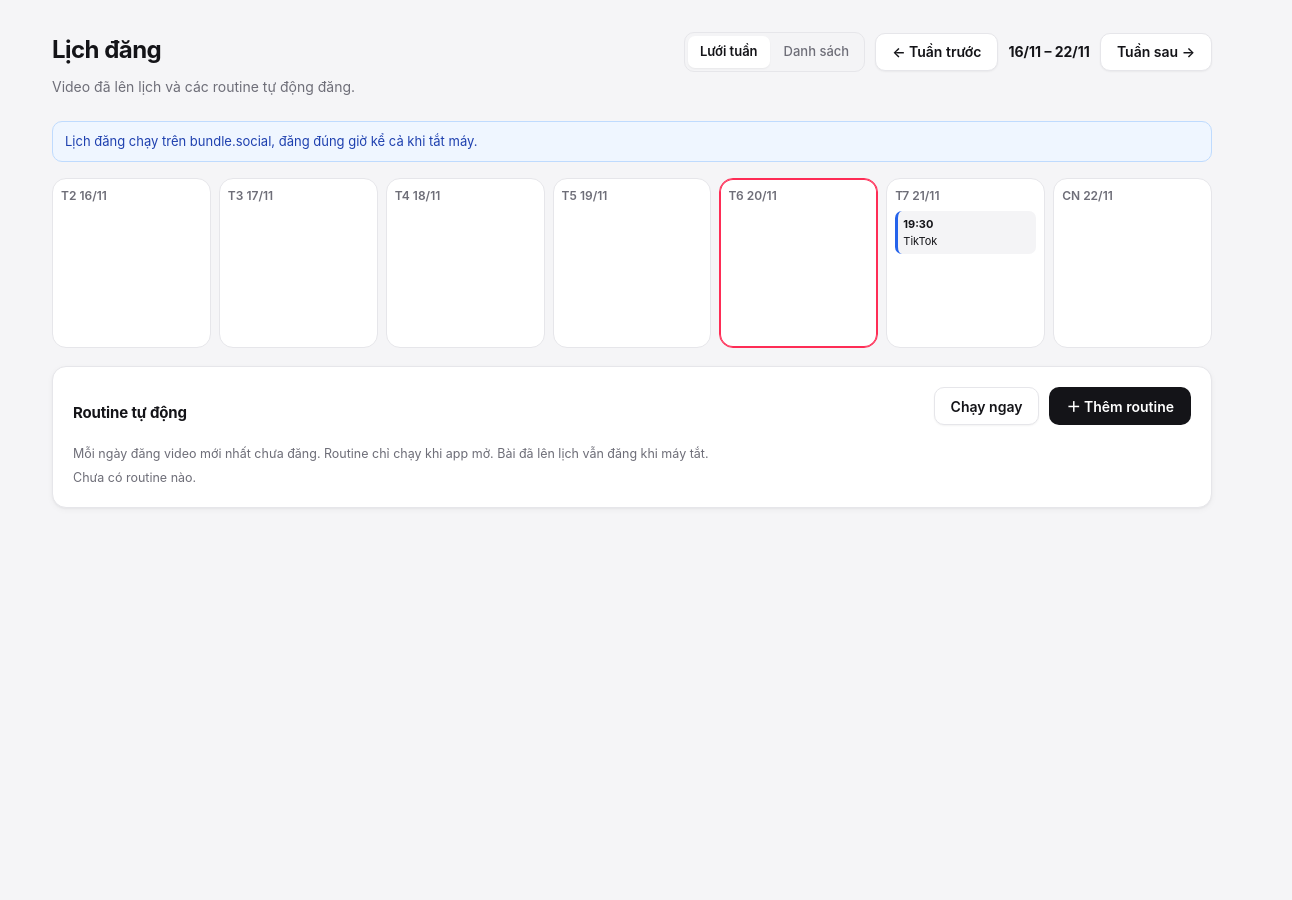
Test: adding a routine saves settings; Chạy ngay runs routine-sync and reports the count
Check: the element with test id "day-T7" is shown, box [886,178,1045,348]
Click the button "＋ Thêm routine" at (1120, 406), box [1049,387,1191,425]
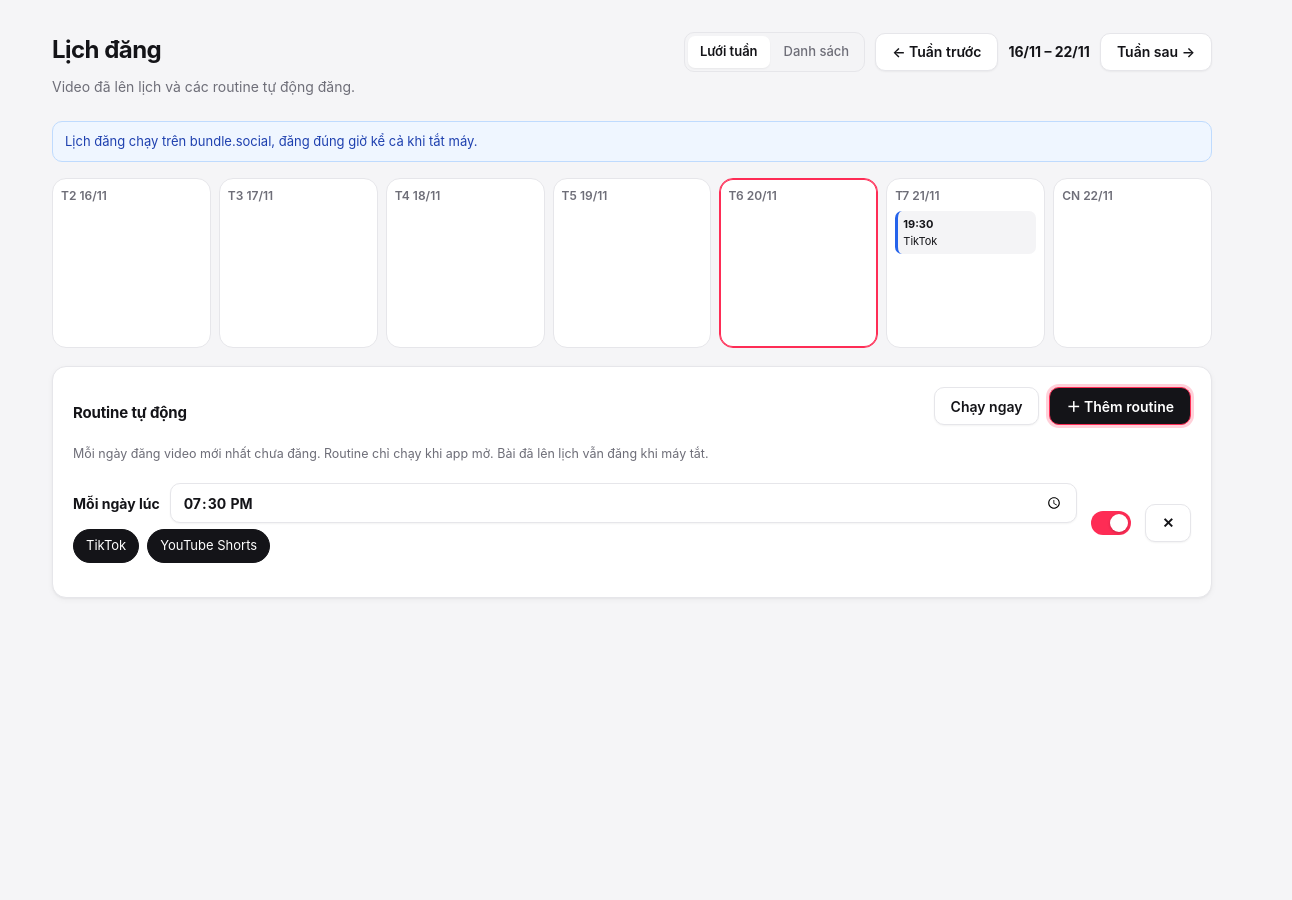
Replace the text in the time field named "Giờ routine 1" with "08:15" at (624, 503), box [170,483,1077,523]
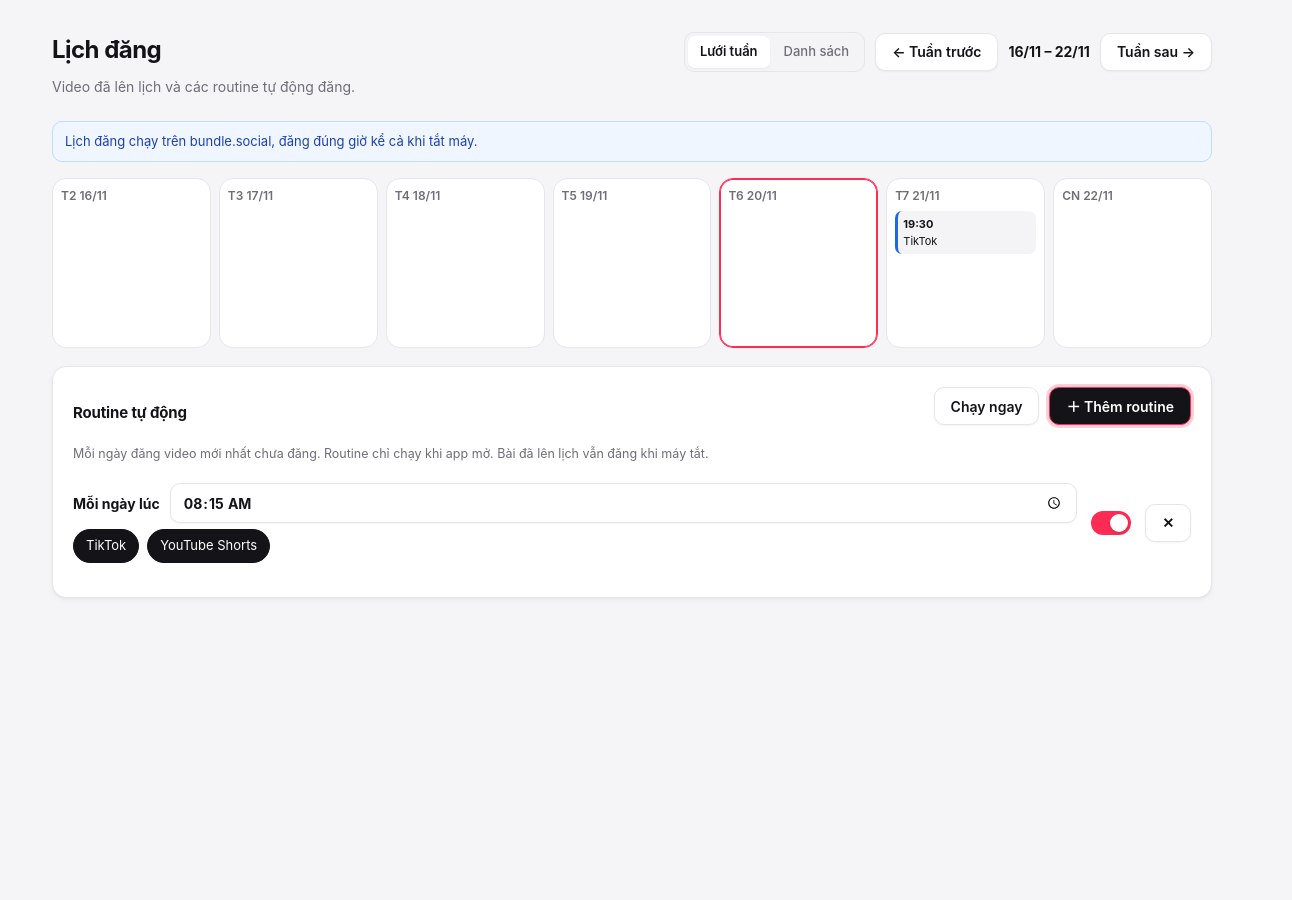
Click the button "Chạy ngay" at (986, 406), box [934,387,1039,425]
(page scrolled)
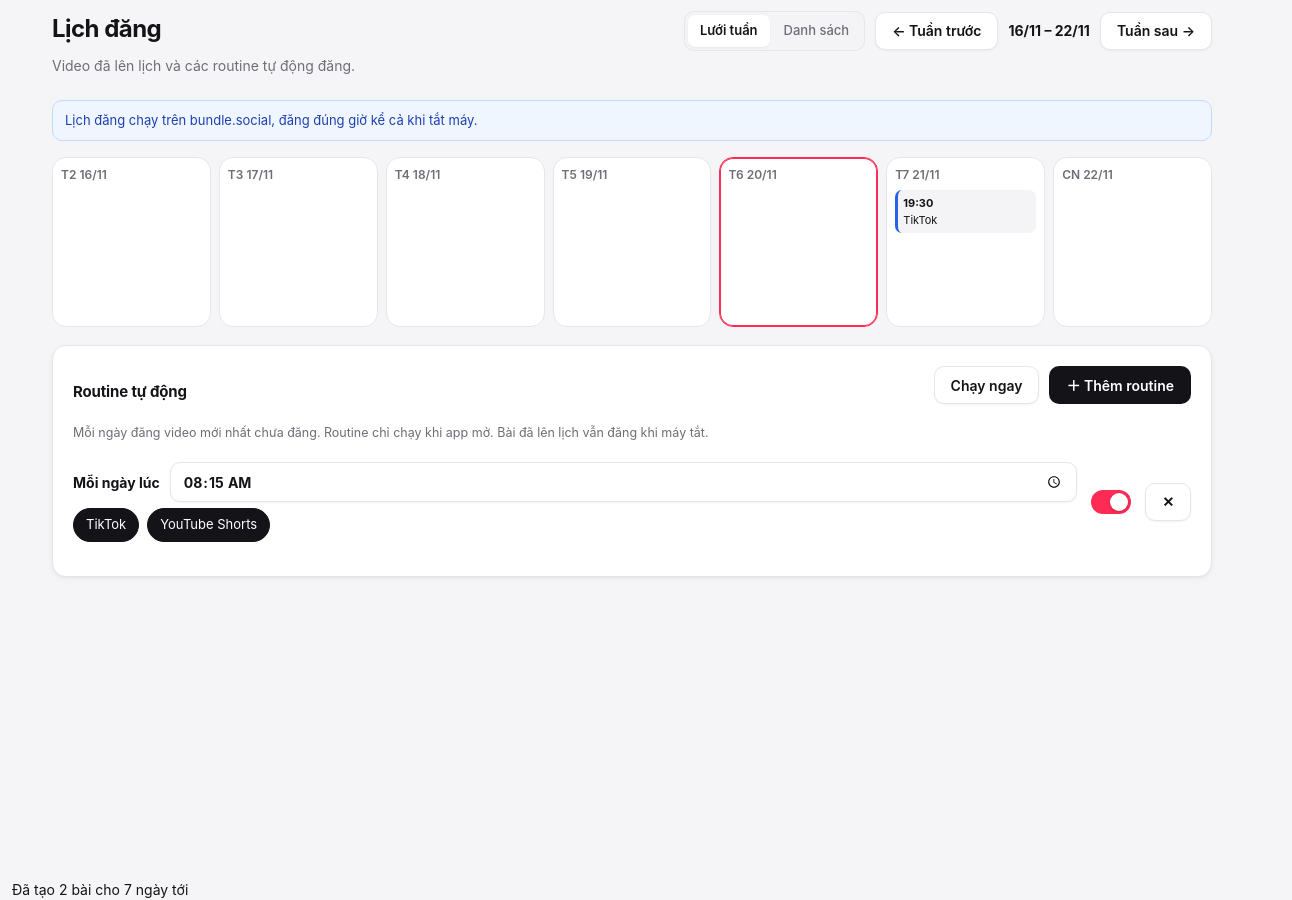
Check: the text "Đã tạo 2 bài cho 7 ngày tới" is shown, box [12,881,188,898]
